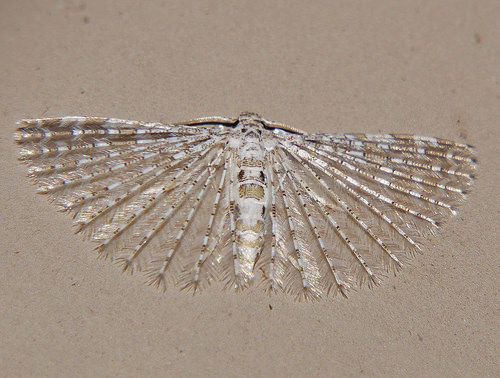Alucitidae: (13, 108, 493, 311)
moth: (11, 106, 491, 309)
